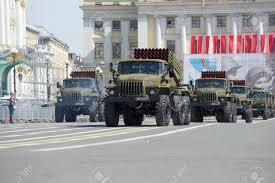MIL_SAM_TEL: (104, 46, 193, 127), (55, 69, 106, 121), (191, 71, 239, 122), (229, 78, 255, 123)
